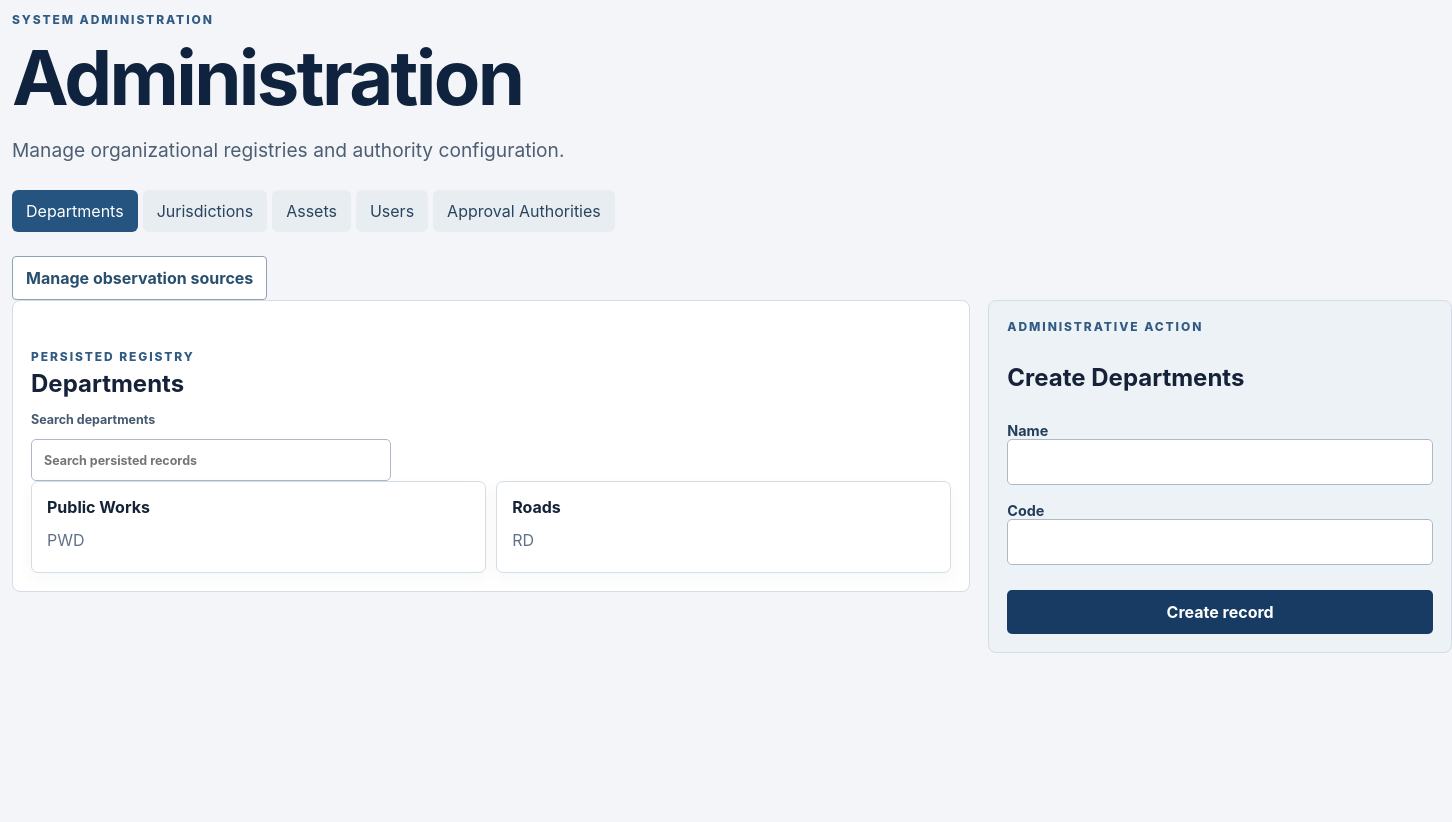
Test: Administration › filters the current persisted registry without changing server data
The image size is (1452, 822).
Check: the text "Public Works" is shown, box [47, 497, 150, 517]
Type "PWD" into the search field labelled "Search departments" at x=211, y=460, box [31, 439, 391, 481]
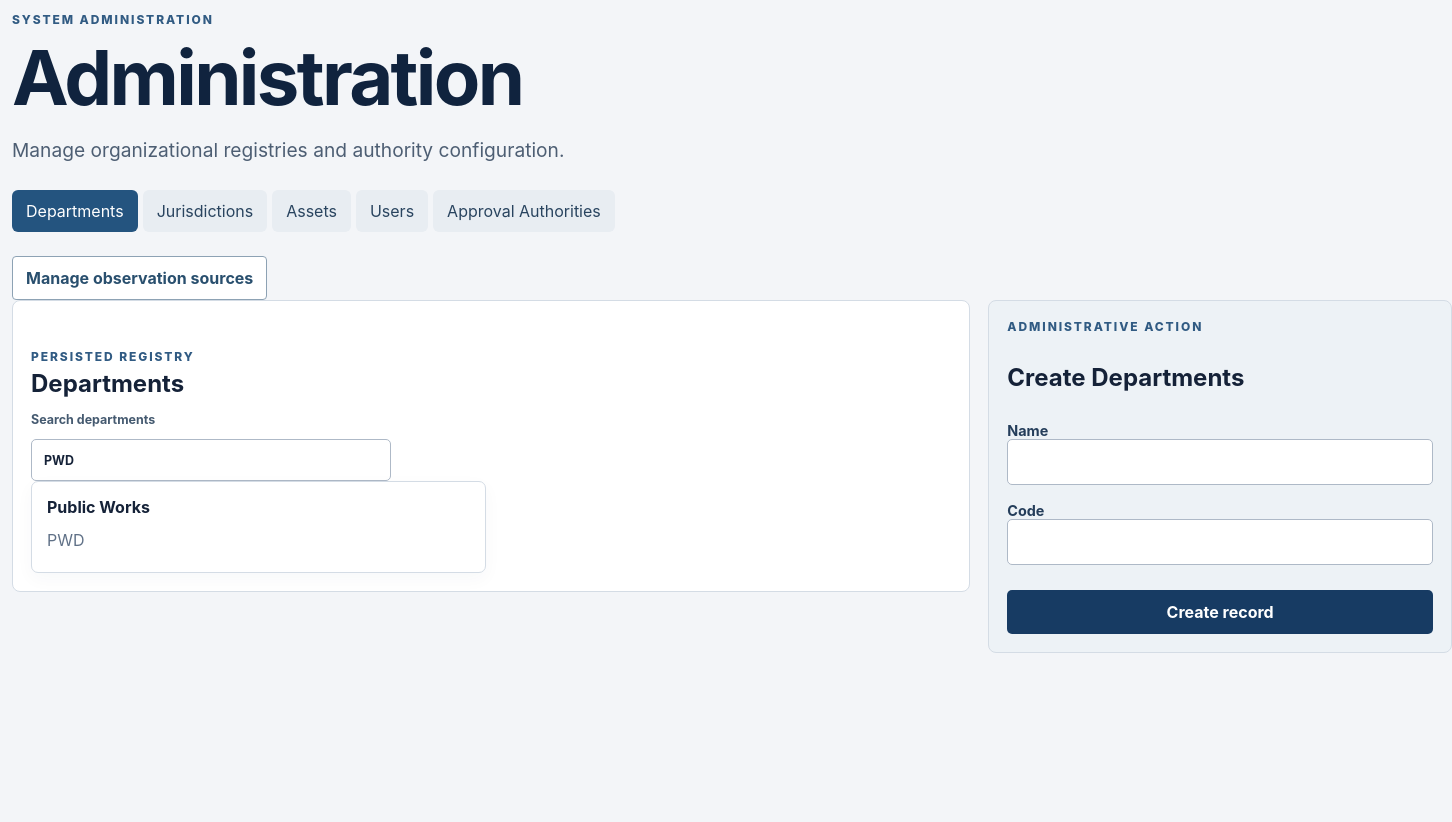
Check: the text "Public Works" is shown, box [47, 497, 150, 517]
Check: the text "Roads" is gone
Replace the text in the search field labelled "Search departments" with "missing" at x=211, y=460, box [31, 439, 391, 481]
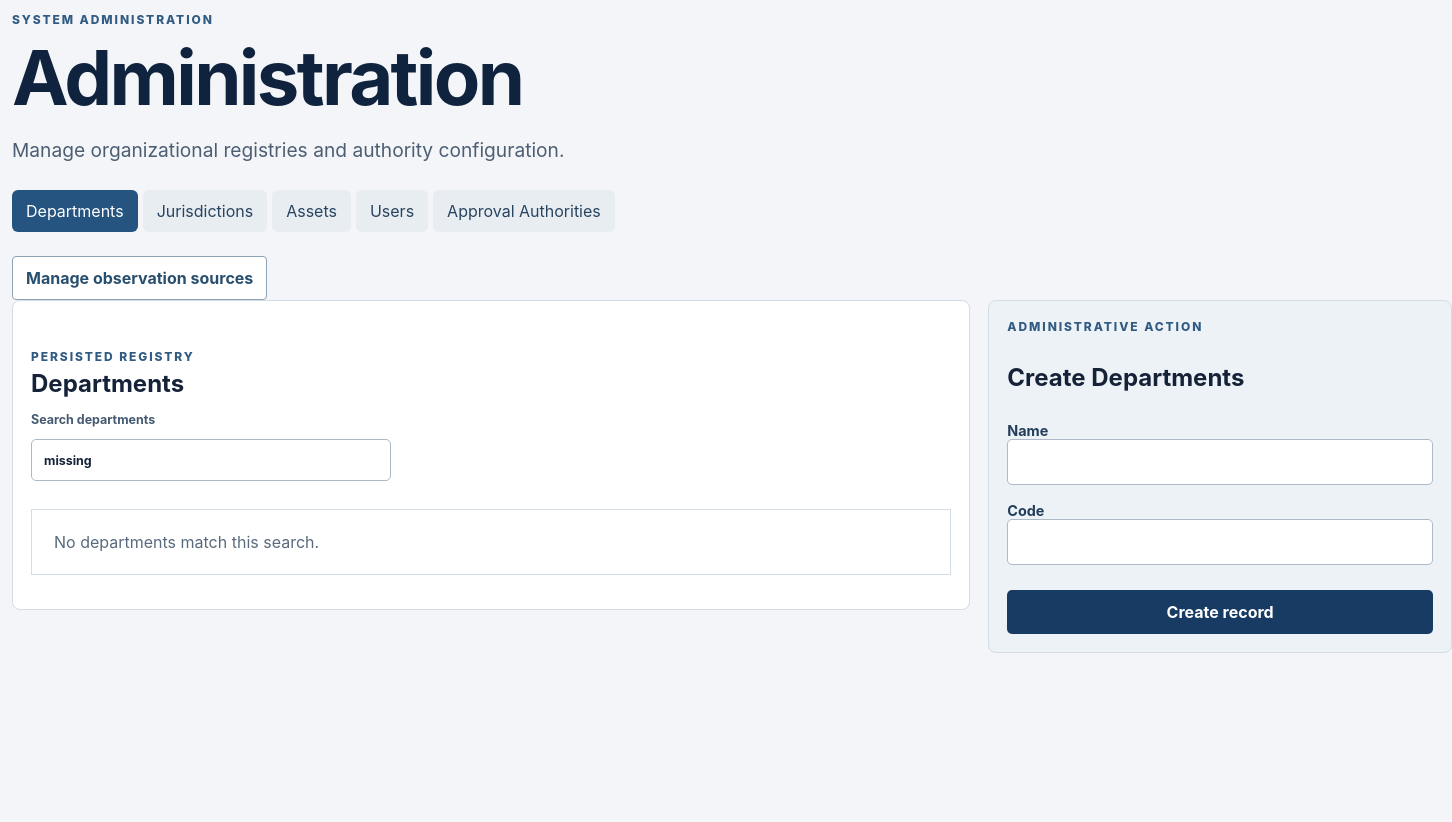
Check: the text "No departments match this search." is shown, box [31, 509, 951, 575]
